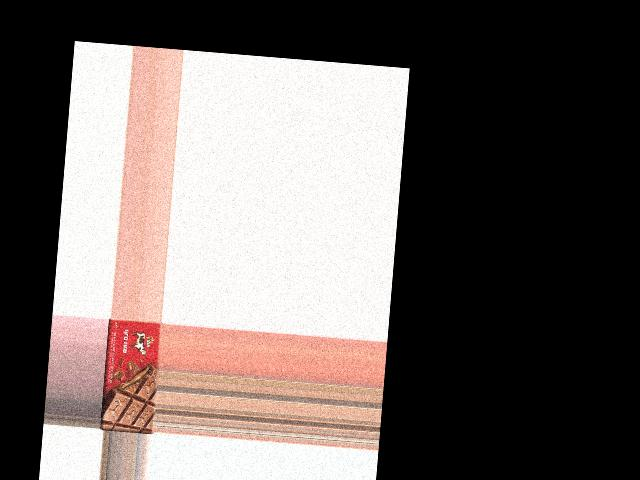chocolate: (100, 317, 162, 433)
